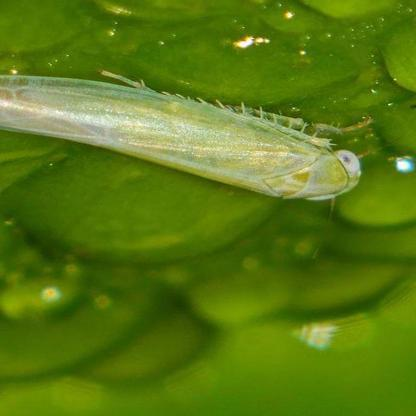green-leafhopper: (0, 67, 374, 205)
